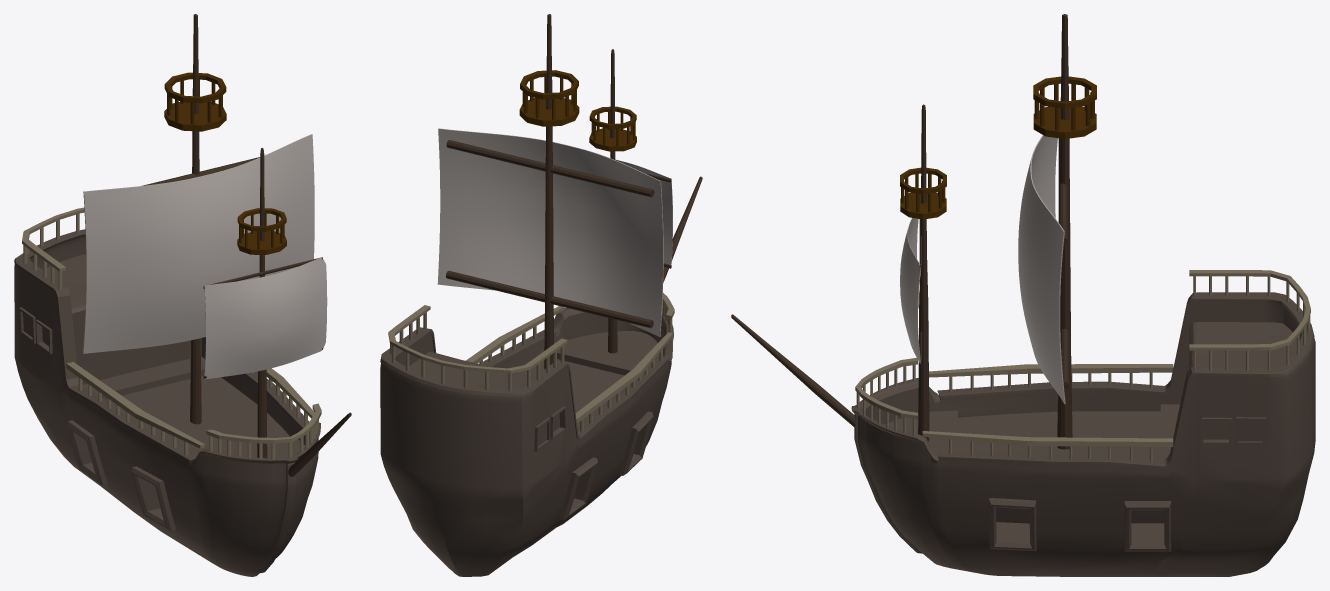
File: Ship.fbx
3 views of the same model, side by side, from view 1: azimuth 30°, elevation 25°; view 2: azimuth 150°, elevation 25°; view 3: azimuth 270°, elevation 25° (orthographic). The views are drawn at different scales.
Parts seen in each view (by area): view 1: pCube1, pCube8, pCube9, pCylinder94, pCylinder96; view 2: pCube1, pCube8, pCylinder94, pCube9, pCylinder96; view 3: pCube1, pCube8, pCube9, pCylinder94, pCylinder96.
Boxes of the visible parts, x1=… form: pCube1: x1=14, y1=229, x2=320, y2=576; pCube8: x1=83, y1=134, x2=327, y2=379; pCube9: x1=22, y1=207, x2=321, y2=459; pCylinder94: x1=142, y1=14, x2=351, y2=476; pCylinder96: x1=164, y1=72, x2=286, y2=254; pCube1: x1=380, y1=307, x2=673, y2=576; pCube8: x1=437, y1=128, x2=672, y2=336; pCylinder94: x1=446, y1=14, x2=702, y2=369; pCube9: x1=388, y1=293, x2=674, y2=431; pCylinder96: x1=519, y1=70, x2=636, y2=151; pCube1: x1=851, y1=292, x2=1315, y2=576; pCube8: x1=900, y1=135, x2=1065, y2=404; pCube9: x1=855, y1=270, x2=1310, y2=462; pCylinder94: x1=731, y1=14, x2=1072, y2=449; pCylinder96: x1=900, y1=76, x2=1096, y2=219.
Size of the model in its own units: 4.05 by 8.88 by 8.36.
